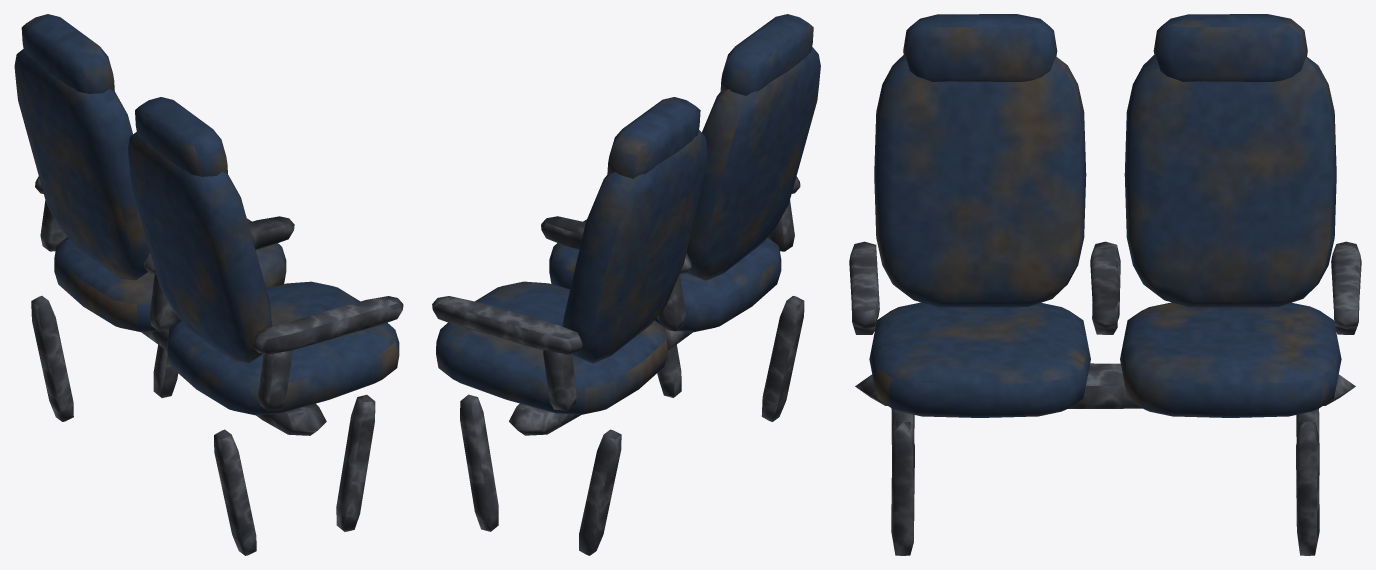
File: plane_seat.glb
The picture shows the model from 3 angles, left to right: view 1: azimuth 30°, elevation 25°; view 2: azimuth 150°, elevation 25°; view 3: azimuth 270°, elevation 25°; orthographic projection. The views are drawn at different scales.
Parts seen in each view (by area): view 1: plane_seat; view 2: plane_seat; view 3: plane_seat.
Boxes of the visible parts, x1,y1,x2,y2 form: plane_seat: [14, 14, 403, 555]; plane_seat: [432, 14, 820, 555]; plane_seat: [849, 14, 1361, 555].
Size of what is drawn, in the model's own units: 0.5688 by 1.07 by 1.06.
2 materials, 2 textured.
